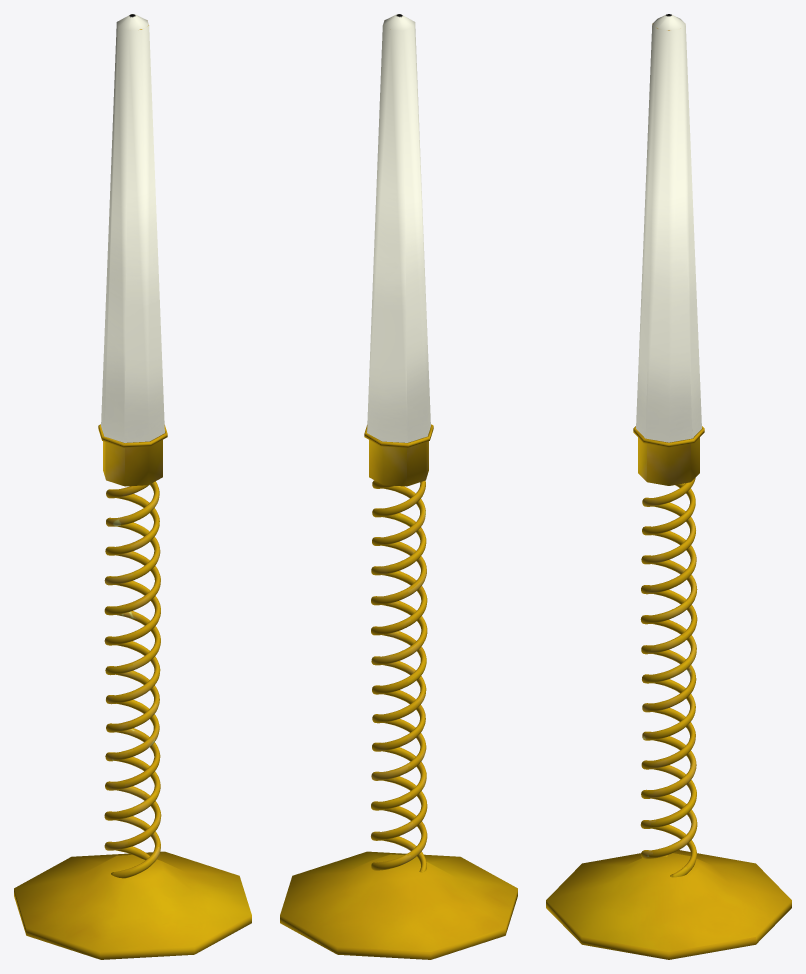
The model's file is CandleStick_Chapel.obj.
3 renders of one model, left to right at view 1: azimuth 30°, elevation 25°; view 2: azimuth 150°, elevation 25°; view 3: azimuth 270°, elevation 25°, orthographic.
Visible parts, largest first — view 1: CandleStick_Chapel.obj; view 2: CandleStick_Chapel.obj; view 3: CandleStick_Chapel.obj.
Part boxes in pixels (bbox=[...]): CandleStick_Chapel.obj: bbox=[14, 14, 251, 959]; CandleStick_Chapel.obj: bbox=[280, 14, 517, 959]; CandleStick_Chapel.obj: bbox=[546, 14, 791, 959].
Size of the model in its own units: 5 by 20.02 by 5.
